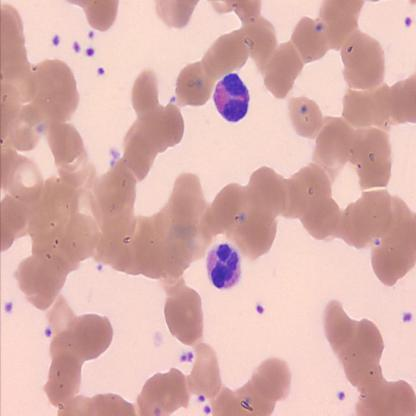Eosinophil: (214, 70, 250, 123)
